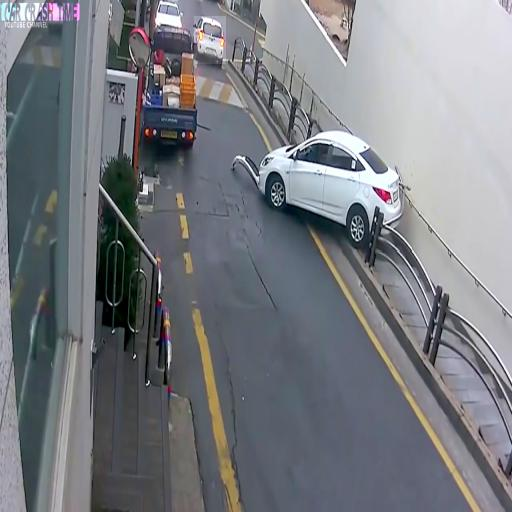小汽车: (141, 27, 199, 154), (194, 16, 226, 64)
小汽车撞物: (236, 126, 412, 252)
